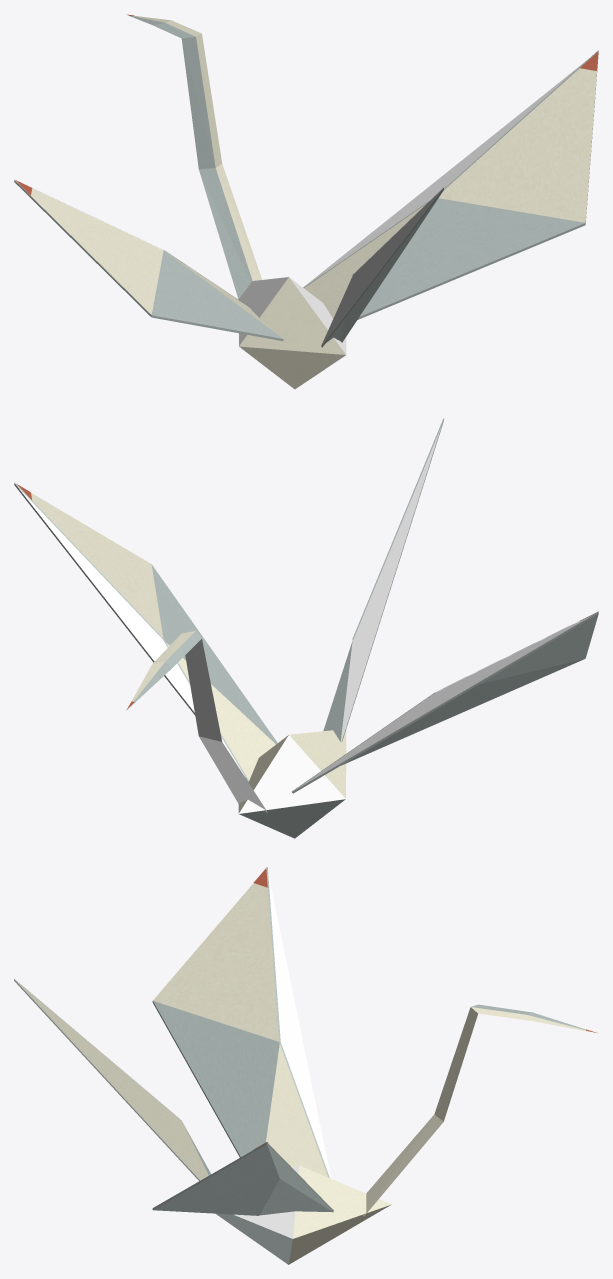
File: origami_paper.obj
3 renders of one model, top to bottom at view 1: azimuth 30°, elevation 25°; view 2: azimuth 150°, elevation 25°; view 3: azimuth 270°, elevation 25°, orthographic. The views are drawn at different scales.
Visible parts, largest first — view 1: origami_paper; view 2: origami_paper; view 3: origami_paper.
Boxes of the visible parts, left/top/right/bottom form: origami_paper: left=14, top=14, right=598, bottom=389; origami_paper: left=14, top=418, right=598, bottom=838; origami_paper: left=14, top=867, right=598, bottom=1264.
Bounding box in the file's own units: 0.9002 × 0.458 × 0.8481.
